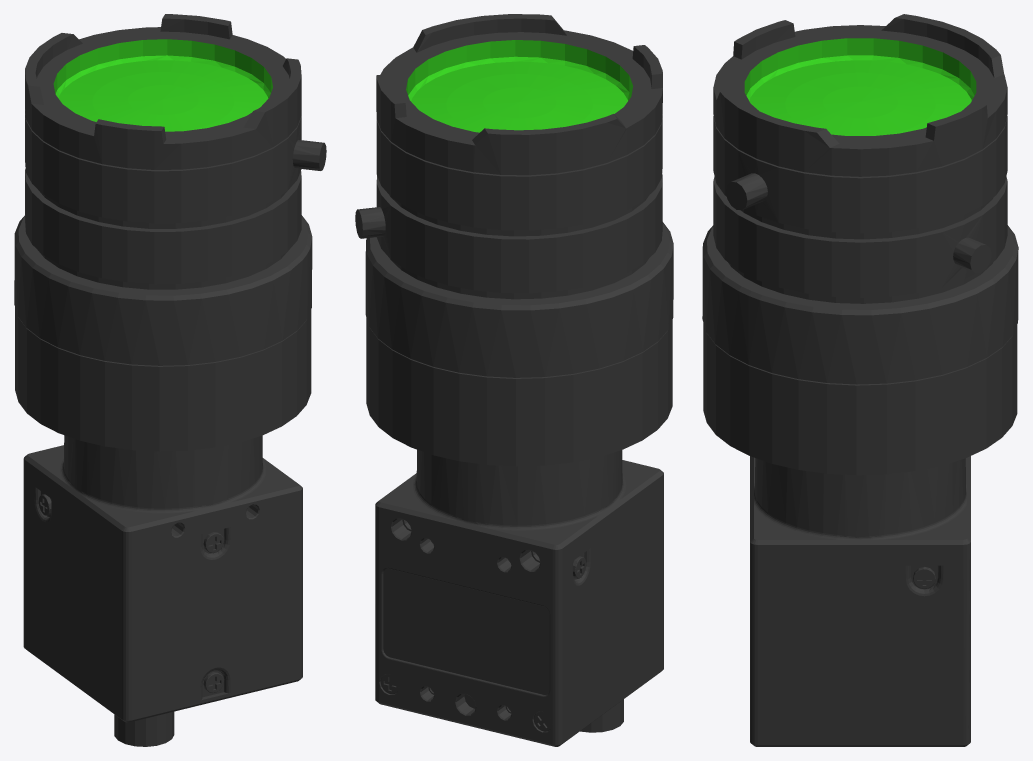
File: pgr_flea3.dae
3 views of the same model, side by side, from view 1: azimuth 30°, elevation 25°; view 2: azimuth 150°, elevation 25°; view 3: azimuth 270°, elevation 25° (orthographic). The views are drawn at different scales.
Parts seen in each view (by area): view 1: Flea3Camera; view 2: Flea3Camera; view 3: Flea3Camera.
Part boxes in pixels (bbox=[...]): Flea3Camera: bbox=[14, 14, 326, 746]; Flea3Camera: bbox=[355, 14, 673, 746]; Flea3Camera: bbox=[702, 14, 1018, 746].
Size of the model in its own units: 0.0415 by 0.0415 by 0.0971.
